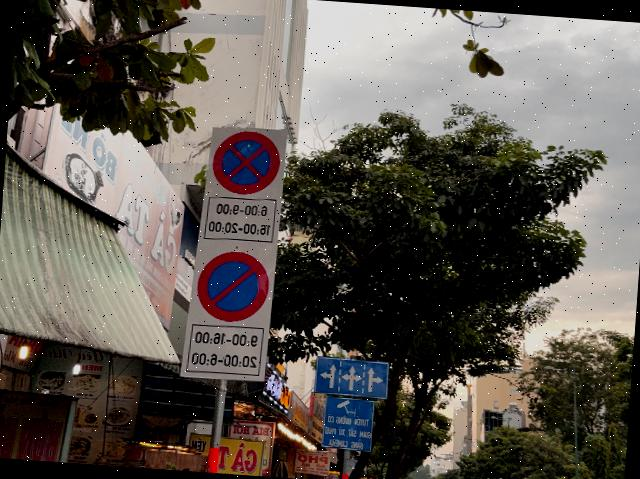cam-do-xe: (194, 249, 270, 324)
cam-dung-va-do-xe: (208, 127, 282, 197)
